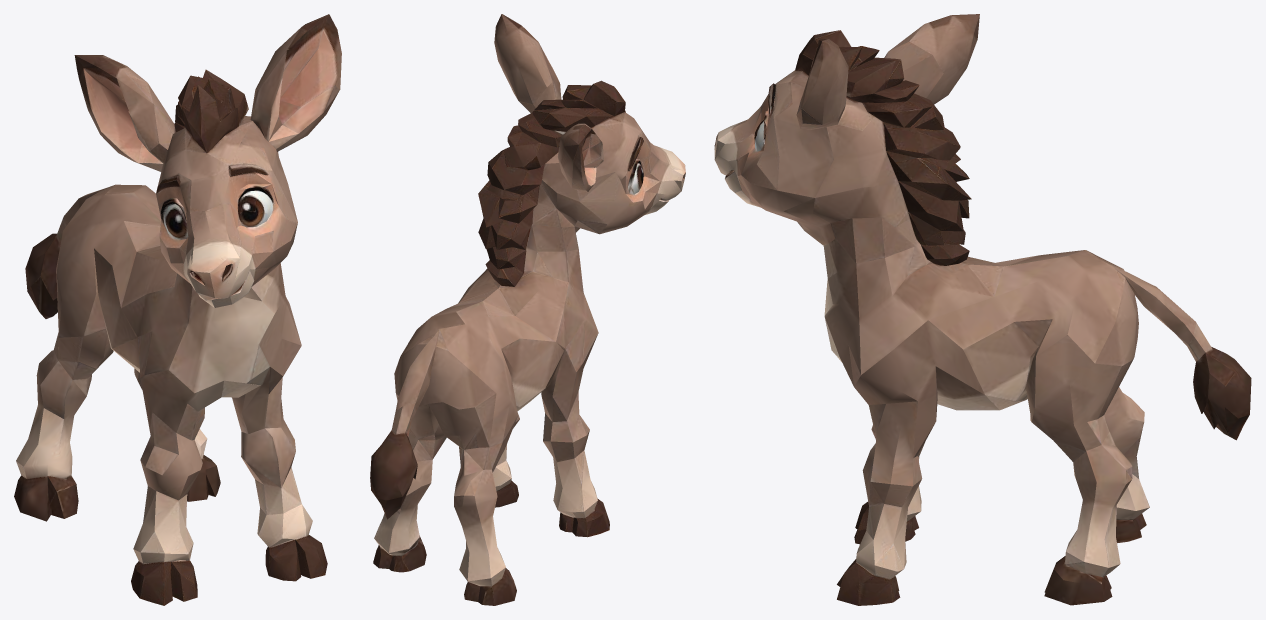
The model's file is pet-donkey.glb.
3 views of the same model, side by side, from view 1: azimuth 30°, elevation 25°; view 2: azimuth 150°, elevation 25°; view 3: azimuth 270°, elevation 25° (orthographic). The views are drawn at different scales.
Bounding box in the file's own units: 0.699 × 1.9 × 1.66.
1 material, 1 textured.
